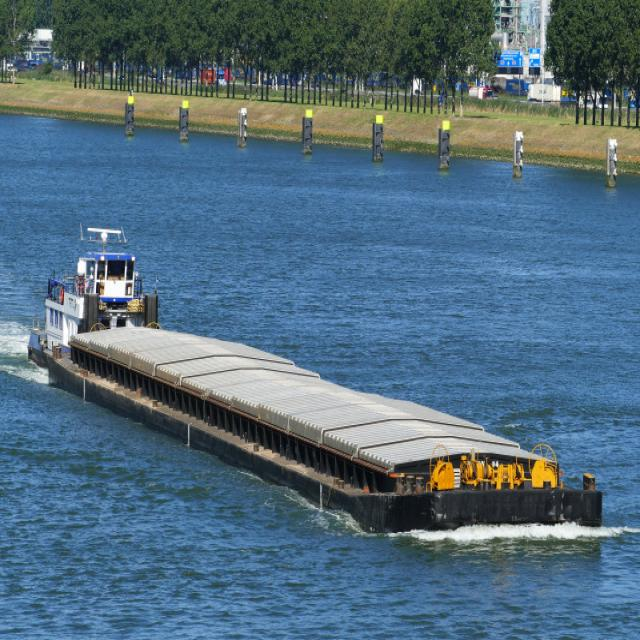tugboat: (24, 223, 166, 397)
